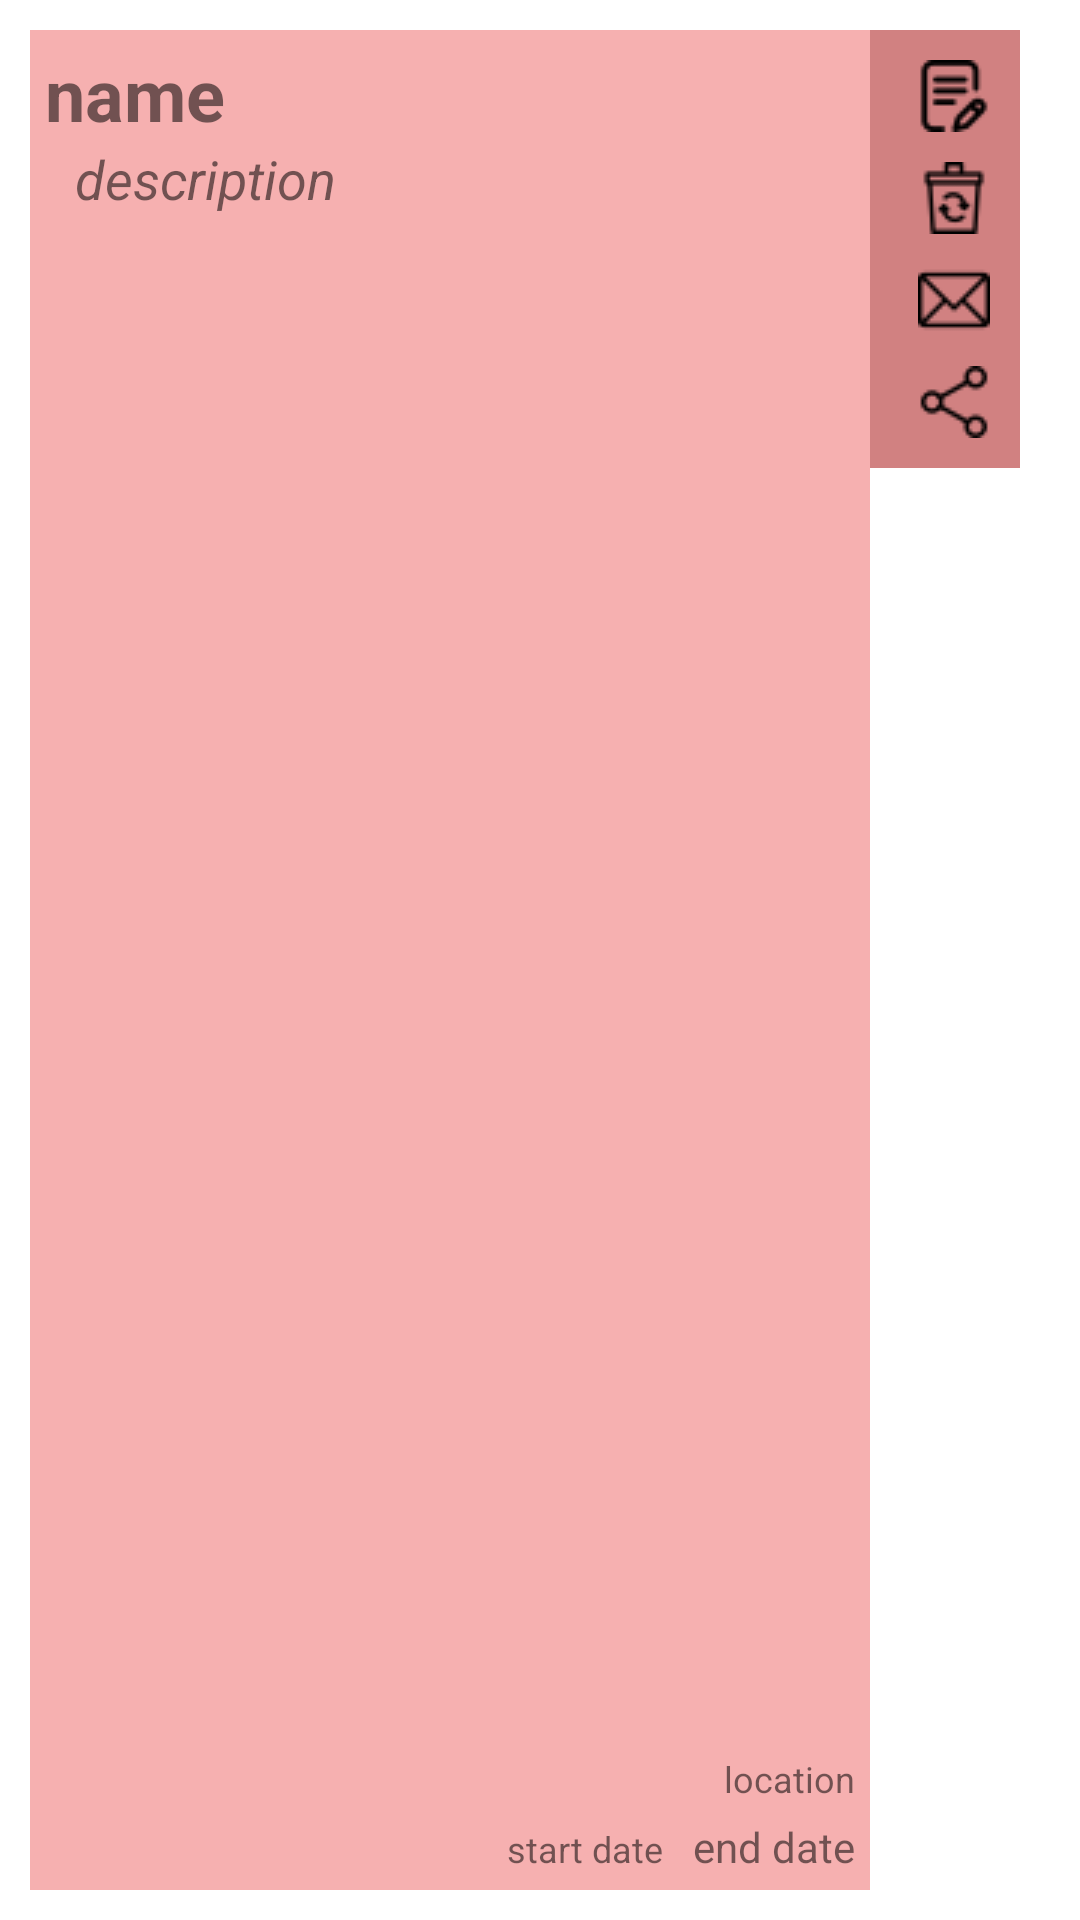

Icons on this 1080w x 1920h Android screen, each with its box as (x1, y1, x2, y2):
document: (920, 60, 988, 132)
mail: (918, 271, 990, 329)
share: (920, 366, 988, 438)
trash: (923, 162, 985, 234)
